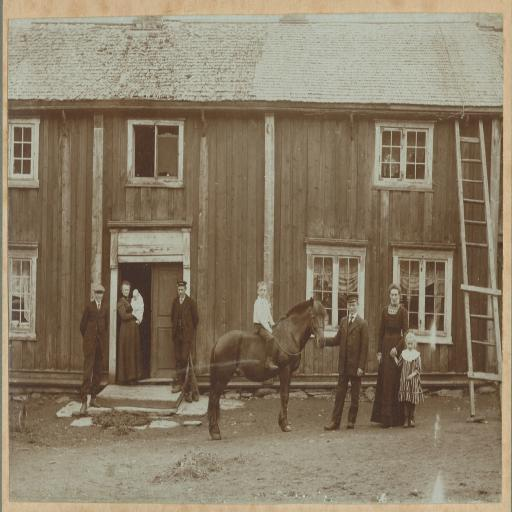horse: (205, 294, 327, 442)
